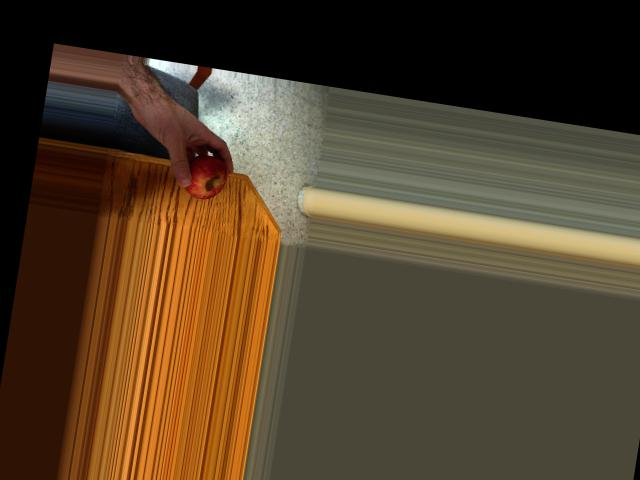apple: (178, 150, 231, 200)
